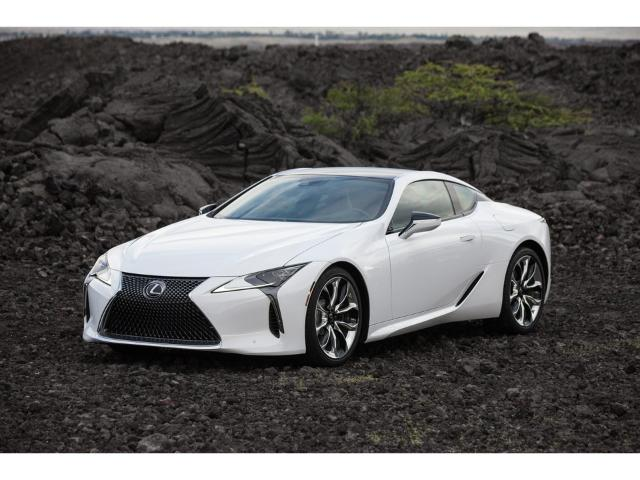lexus: (82, 167, 552, 368)
